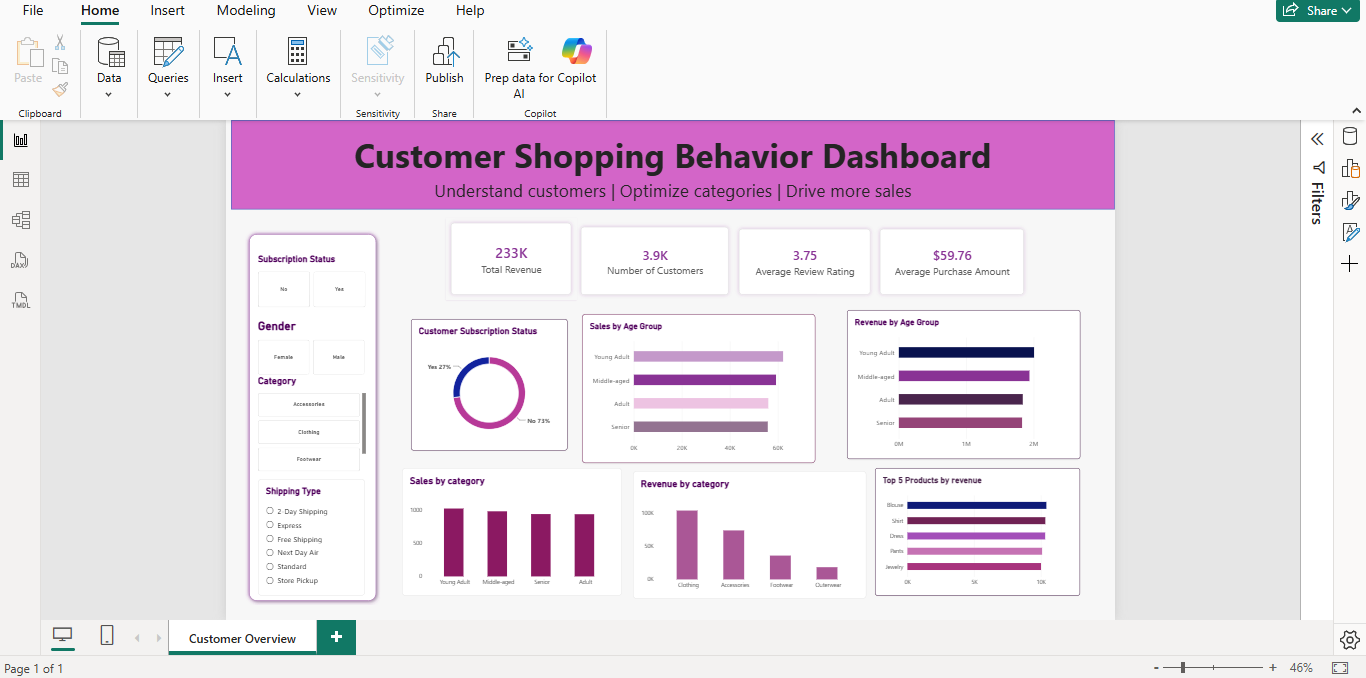

The page's visual inventory and layout, read from the dashboard file:
{"tool":"powerbi","page":{"name":"Customer Overview","canvas":[1920,1080],"ordinal":0},"visuals":[{"type":"shape","box":[10.7,0,1909.3,193.1],"z":0},{"type":"textbox","box":[10.7,26.8,1909.3,134.1],"z":1000},{"type":"textbox","box":[10.7,126,1909.3,67],"z":2000},{"type":"cardVisual","fields":{"Data":["customer_shopping_behavior_cleaned.Total Revenue"]},"box":[474.6,211.8,281.6,177],"z":3000},{"type":"cardVisual","fields":{"Data":["customer_shopping_behavior_cleaned.Average Purchase Amount"]},"box":[1402.5,225.3,332.5,163.6],"z":4000},{"type":"cardVisual","fields":{"Data":["customer_shopping_behavior_cleaned.Average Review Rating"]},"box":[1096.8,225.3,305.7,163.6],"z":5000},{"type":"cardVisual","fields":{"Data":["customer_shopping_behavior_cleaned.Number of Customers"]},"box":[756.2,219.9,340.6,168.9],"z":6000},{"type":"donutChart","title":"Customer Subscription Status","fields":{"Y":["CountNonNull(customer_shopping_behavior_cleaned.customer_id)"],"Category":["customer_shopping_behavior_cleaned.subscription_status"]},"box":[399.6,429.1,337.9,284.2],"z":8000},{"type":"shape","box":[40.2,238.7,292.3,809.8],"z":10000},{"type":"clusteredColumnChart","title":"Revenue by category","fields":{"Category":["customer_shopping_behavior_cleaned.category"],"Y":["customer_shopping_behavior_cleaned.Total Revenue"]},"box":[879.7,758.5,504.1,276.2],"z":12000},{"type":"clusteredColumnChart","title":"Sales by category","fields":{"Category":["customer_shopping_behavior_cleaned.age_group"],"Y":["customer_shopping_behavior_cleaned.Total Purchases"]},"box":[380.8,750.8,474.6,276.2],"z":13000},{"type":"advancedSlicerVisual","title":"Subscription Status","fields":{"Values":["customer_shopping_behavior_cleaned.subscription_status"]},"box":[69.7,289.6,233.3,115.3],"z":14000},{"type":"advancedSlicerVisual","title":"Gender","fields":{"Values":["customer_shopping_behavior_cleaned.gender"]},"box":[69.7,429.1,230.6,120.7],"z":15000},{"type":"advancedSlicerVisual","title":"Category","fields":{"Values":["customer_shopping_behavior_cleaned.category"]},"box":[69.7,549.7,233.3,209.2],"z":16000},{"type":"listSlicer","title":"Shipping Type","fields":{"Values":["customer_shopping_behavior_cleaned.shipping_type"]},"box":[69.7,775,230.6,252.1],"z":17000},{"type":"clusteredBarChart","title":"Revenue by Age Group","fields":{"Category":["customer_shopping_behavior_cleaned.age_group"],"Y":["Sum(customer_shopping_behavior_cleaned.customer_id)"]},"box":[1340.8,410.3,504.1,321.8],"z":18001},{"type":"clusteredBarChart","title":"Sales by Age Group","fields":{"Category":["customer_shopping_behavior_cleaned.age_group"],"Y":["customer_shopping_behavior_cleaned.Total Revenue"]},"box":[769.6,418.3,504.1,321.8],"z":18002},{"type":"clusteredBarChart","title":"Top 5 Products by revenue","fields":{"Category":["customer_shopping_behavior_cleaned.item_purchased"],"Y":["customer_shopping_behavior_cleaned.Total Revenue"]},"box":[1402,751,443,276],"z":18003}]}

Visuals, with their boxes on the page's 1920x1080 design canvas (x1, y1, x2, y2). These are canvas units, not pixel positions in the 1366x678 screenshot, which may show the page scaled, cropped or inside an application window:
shape: box(11, 0, 1920, 193)
textbox: box(11, 27, 1920, 161)
textbox: box(11, 126, 1920, 193)
cardVisual - customer_shopping_behavior_cleaned.Total Revenue: box(475, 212, 756, 389)
cardVisual - customer_shopping_behavior_cleaned.Average Purchase Amount: box(1402, 225, 1735, 389)
cardVisual - customer_shopping_behavior_cleaned.Average Review Rating: box(1097, 225, 1402, 389)
cardVisual - customer_shopping_behavior_cleaned.Number of Customers: box(756, 220, 1097, 389)
"Customer Subscription Status" donutChart: box(400, 429, 738, 713)
shape: box(40, 239, 332, 1048)
"Revenue by category" clusteredColumnChart: box(880, 758, 1384, 1035)
"Sales by category" clusteredColumnChart: box(381, 751, 855, 1027)
"Subscription Status" advancedSlicerVisual: box(70, 290, 303, 405)
"Gender" advancedSlicerVisual: box(70, 429, 300, 550)
"Category" advancedSlicerVisual: box(70, 550, 303, 759)
"Shipping Type" listSlicer: box(70, 775, 300, 1027)
"Revenue by Age Group" clusteredBarChart: box(1341, 410, 1845, 732)
"Sales by Age Group" clusteredBarChart: box(770, 418, 1274, 740)
"Top 5 Products by revenue" clusteredBarChart: box(1402, 751, 1845, 1027)
